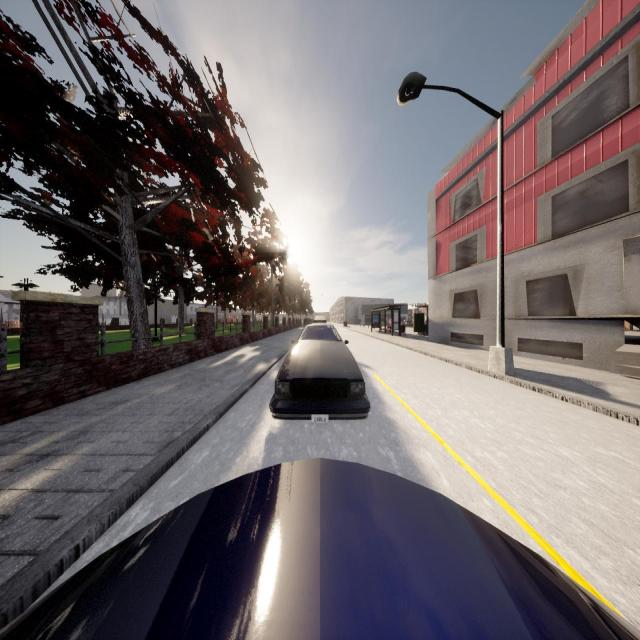Vehicle: (0, 457, 640, 640), (270, 324, 370, 418), (313, 316, 327, 323)
